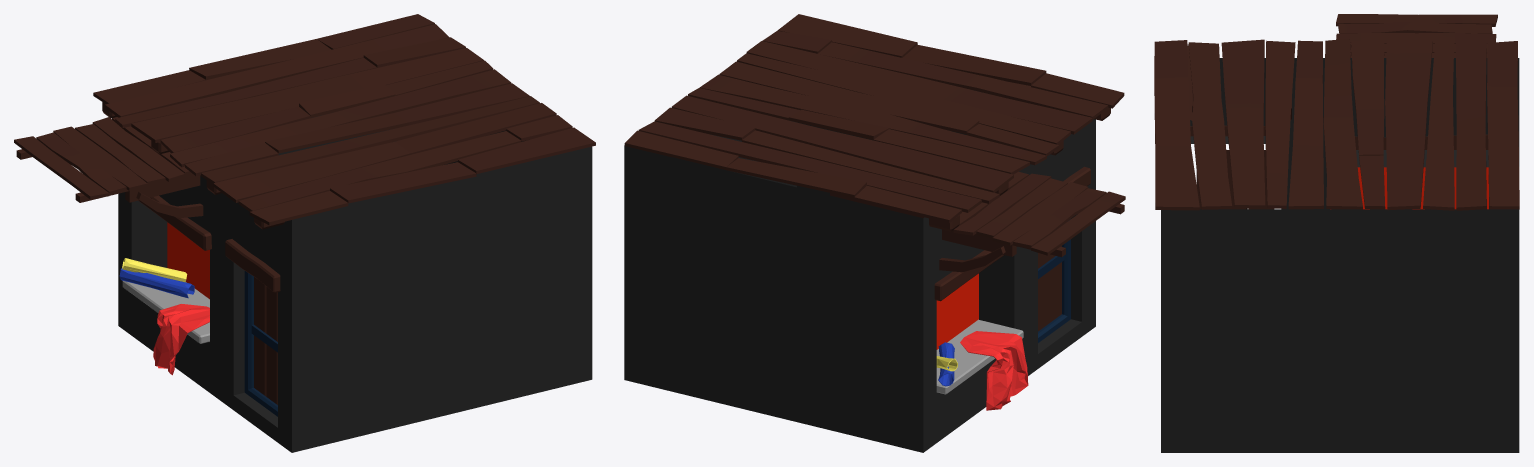
The model's file is civilian_house_45.FBX.
3 renders of one model, left to right at view 1: azimuth 30°, elevation 25°; view 2: azimuth 150°, elevation 25°; view 3: azimuth 270°, elevation 25°, orthographic. The views are drawn at different scales.
Visible parts, largest first — view 1: civilian_house_45; view 2: civilian_house_45; view 3: civilian_house_45.
Part boxes in pixels (x1,y1,x2,y2): civilian_house_45: (14,14,595,452); civilian_house_45: (624,14,1125,452); civilian_house_45: (1154,14,1519,452).
Bounding box in the file's own units: 703 × 387 × 510.
